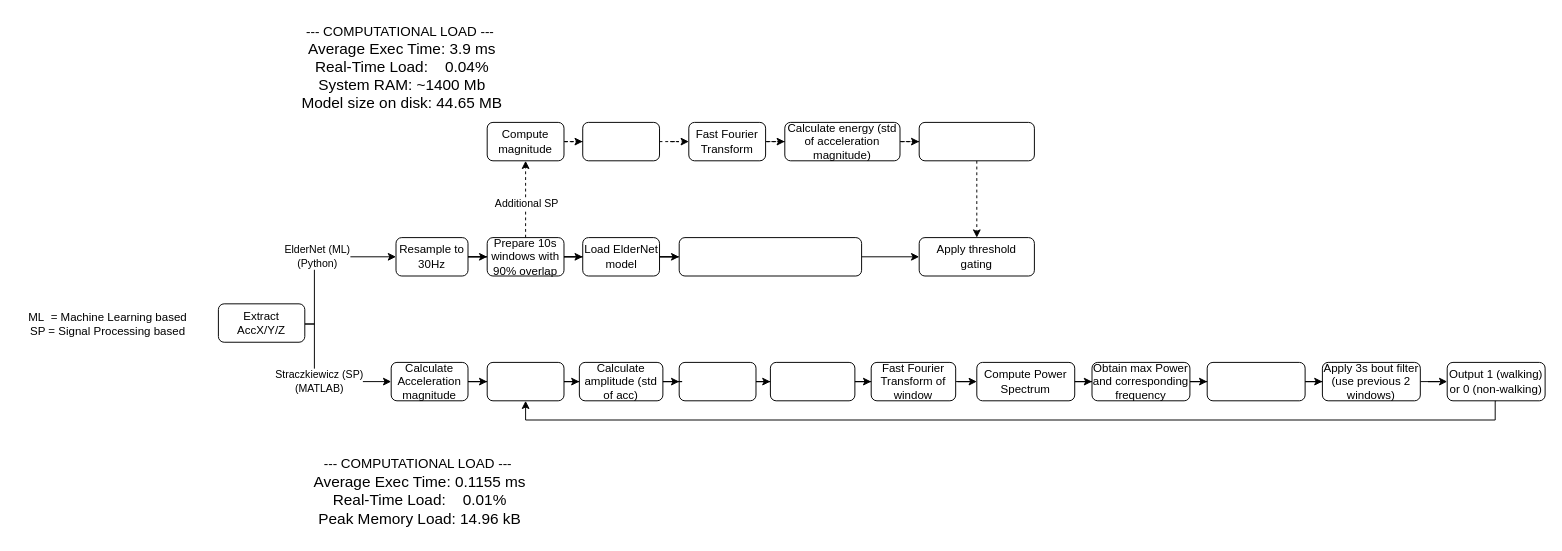
This 1562x551 diagram has some shape labels left out. The shapes that lost their labels are listed below. From the top down, each one's centre as x and y in pixels, then its label:
At point 621,141: "Subtract mean".
At point 976,141: "Obtain dominant frequency from max magnitude".
At point 770,256: "Apply model to window of previous 10s, obtain probability for current 1s window".
At point 525,381: "Create 2s window with 50% overlap".
At point 717,381: "Subtract mean to remove g".
At point 812,381: "Apply Hanning window to taper edges".
At point 1255,381: "Apply threshold gaiting".
